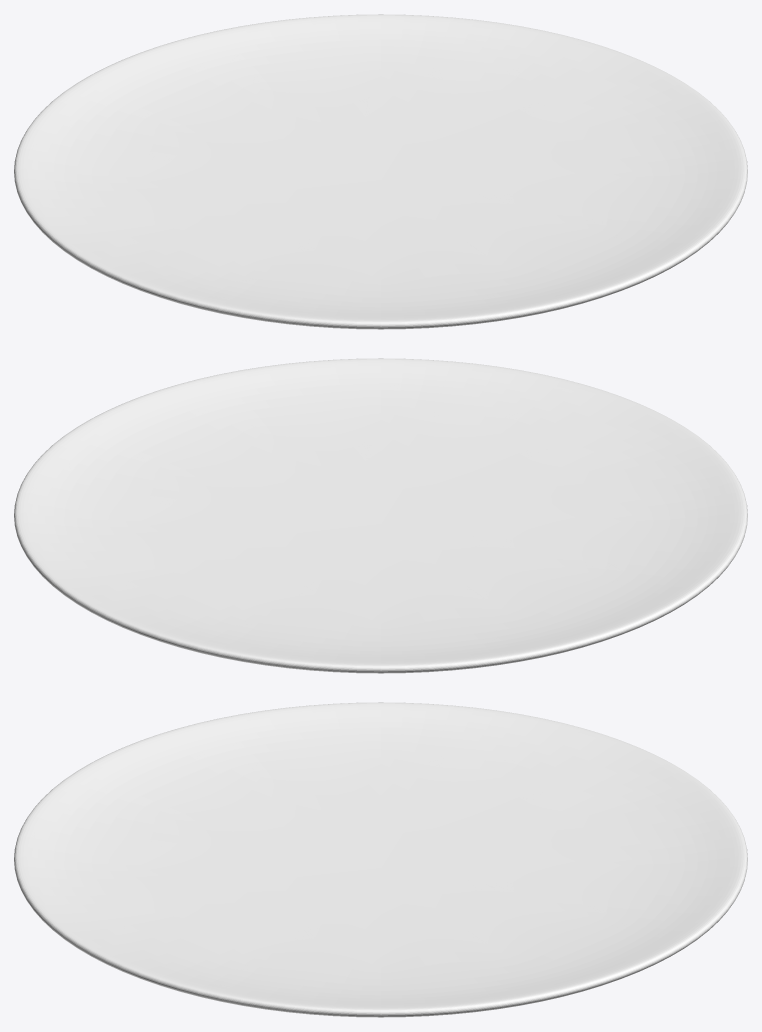
Rendered from plate.obj.
3 renders of one model, top to bottom at view 1: azimuth 30°, elevation 25°; view 2: azimuth 150°, elevation 25°; view 3: azimuth 270°, elevation 25°, orthographic.
Visible parts, largest first — view 1: Cylinder; view 2: Cylinder; view 3: Cylinder.
Boxes of the visible parts, bbox=[...] form: Cylinder: bbox=[14, 14, 747, 329]; Cylinder: bbox=[14, 358, 747, 673]; Cylinder: bbox=[14, 702, 747, 1017].
Bounding box in the file's own units: 3.08 × 0.1363 × 3.08.
1 material, 1 textured.
